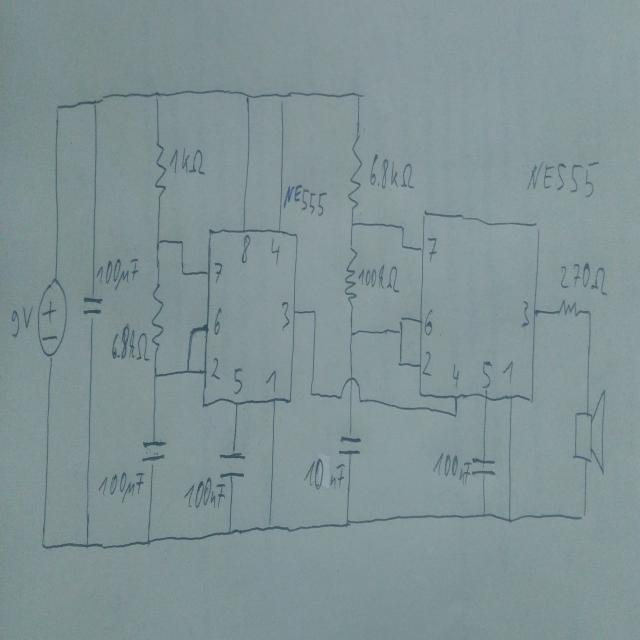capacitor: (218, 450, 246, 481), (142, 437, 166, 464), (82, 294, 104, 319), (471, 455, 496, 477), (338, 434, 362, 456)
crossover: (338, 374, 364, 406)
junction: (276, 83, 288, 111), (143, 527, 155, 555), (224, 520, 236, 546), (242, 86, 254, 110), (264, 514, 276, 538), (577, 503, 589, 527), (81, 532, 92, 557), (152, 86, 163, 108), (90, 92, 100, 116), (38, 533, 48, 557), (342, 511, 352, 535), (479, 504, 490, 525), (53, 99, 63, 121), (585, 302, 594, 326), (354, 86, 364, 106), (347, 216, 357, 234), (505, 510, 515, 528), (187, 323, 196, 342), (396, 322, 404, 342), (308, 384, 316, 402), (398, 312, 407, 328), (397, 354, 405, 372), (348, 325, 356, 342), (451, 407, 459, 424), (310, 306, 318, 322), (398, 220, 406, 236), (398, 236, 406, 252), (179, 266, 187, 281), (178, 237, 186, 251), (183, 363, 190, 379), (156, 236, 162, 251), (152, 368, 158, 383)
resistor: (347, 130, 363, 210), (151, 278, 164, 352), (154, 135, 167, 203), (344, 244, 358, 304), (556, 298, 582, 320)
source: (37, 276, 70, 362)
text: (526, 157, 602, 199), (368, 152, 416, 192), (111, 322, 151, 365), (283, 182, 328, 220), (559, 263, 608, 297), (183, 474, 226, 512), (97, 469, 145, 503), (95, 256, 140, 292), (304, 456, 345, 494), (358, 260, 400, 294), (432, 450, 471, 485), (169, 144, 206, 177), (10, 300, 34, 340), (421, 348, 433, 381), (426, 233, 437, 266), (423, 306, 434, 338), (280, 298, 290, 332), (266, 367, 278, 395), (232, 365, 242, 398), (502, 359, 514, 386), (520, 298, 530, 330), (482, 359, 492, 391), (241, 233, 250, 267), (270, 236, 280, 266), (452, 360, 461, 390), (213, 306, 222, 336), (211, 356, 221, 382), (214, 260, 222, 286)
